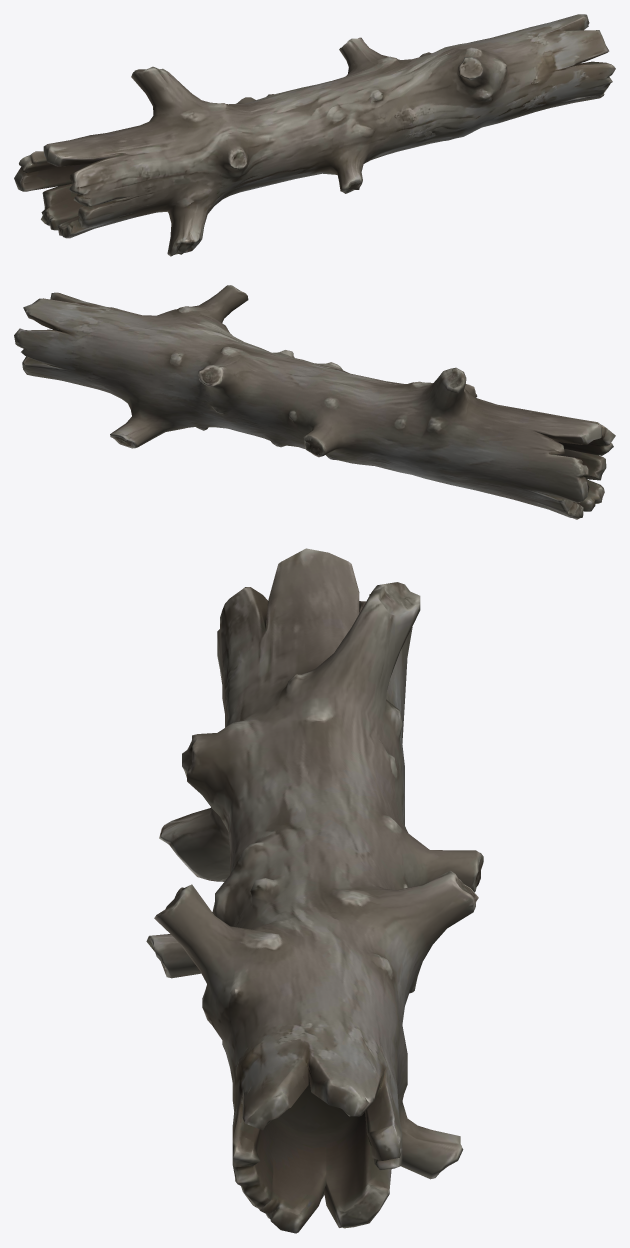
File: original_glb.glb
3 views of the same model, one above another, from view 1: azimuth 30°, elevation 25°; view 2: azimuth 150°, elevation 25°; view 3: azimuth 270°, elevation 25° (orthographic). The views are drawn at different scales.
Parts seen in each view (by area): view 1: Driftwood Log; view 2: Driftwood Log; view 3: Driftwood Log.
Boxes of the visible parts, box(x1,y1,x2,y2) form: Driftwood Log: box(14, 14, 615, 256); Driftwood Log: box(14, 285, 615, 519); Driftwood Log: box(146, 548, 483, 1233).
Size of the model in its own units: 0.998 by 0.2598 by 0.2598.
Materials: 1 (1 with a texture image).
